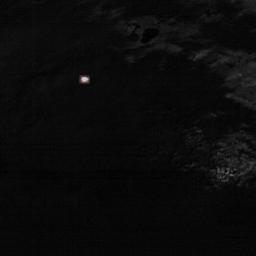Target: (79, 75, 88, 83)
